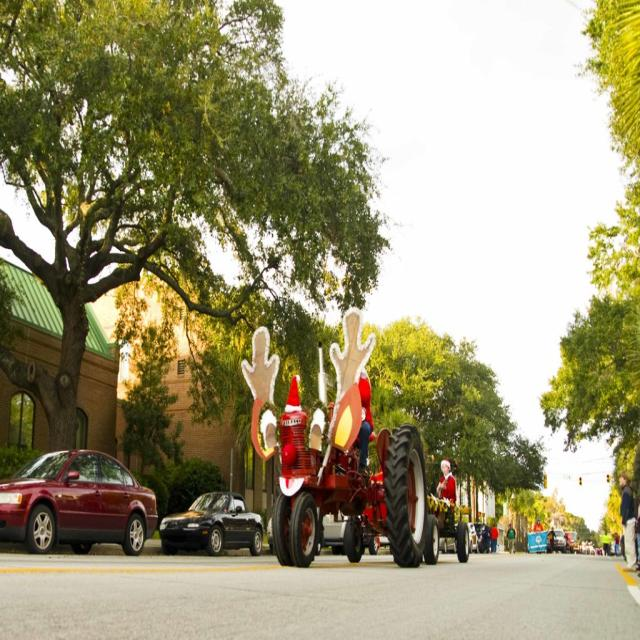car: (169, 485, 270, 548)
